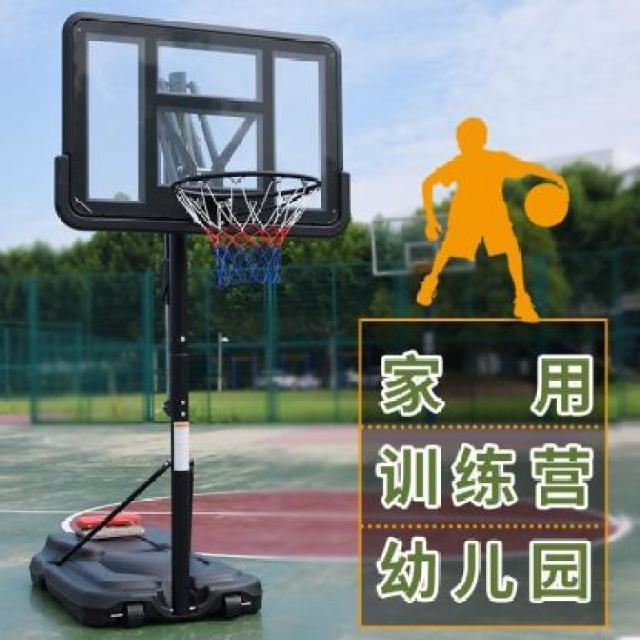rim: (169, 170, 323, 288)
